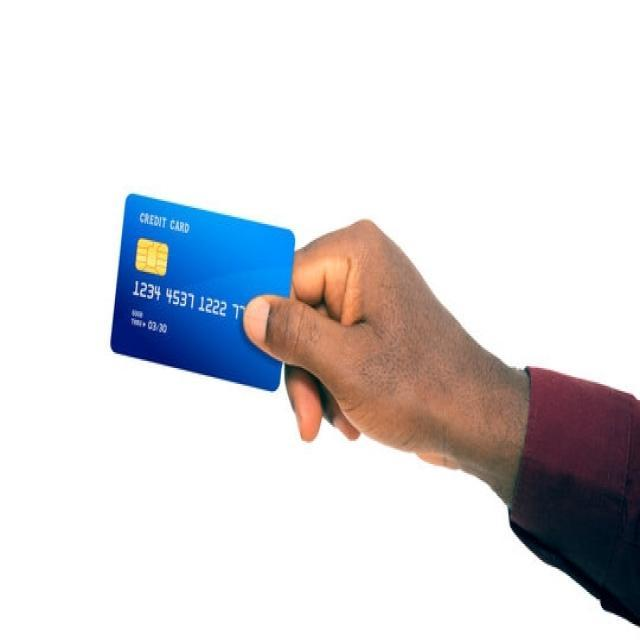payment_card: (108, 191, 296, 392)
